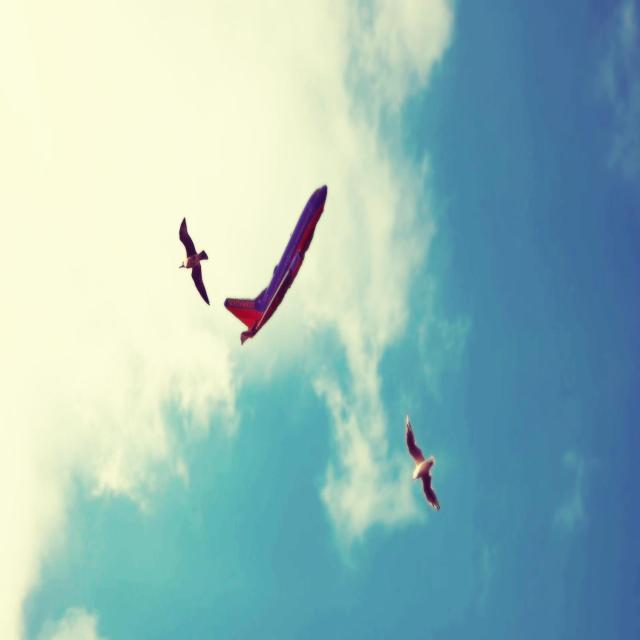airplane: (223, 182, 328, 346)
